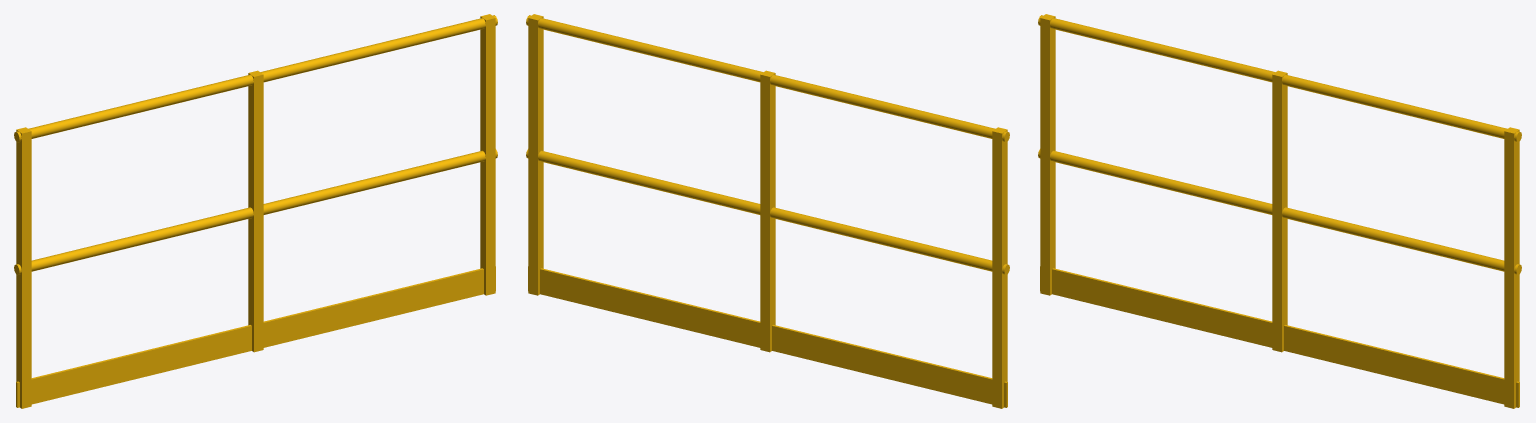
The model's file is handrail_2m.glb.
3 renders of one model, left to right at view 1: azimuth 30°, elevation 25°; view 2: azimuth 150°, elevation 25°; view 3: azimuth 330°, elevation 25°, orthographic.
Parts seen in each view (by area): view 1: Handrail; view 2: Handrail; view 3: Handrail.
Boxes of the visible parts, left/top/right/bottom form: Handrail: left=14, top=14, right=497, bottom=408; Handrail: left=526, top=14, right=1009, bottom=408; Handrail: left=1038, top=14, right=1521, bottom=408.
Bounding box in the file's own units: 2 × 1.1 × 0.04.
